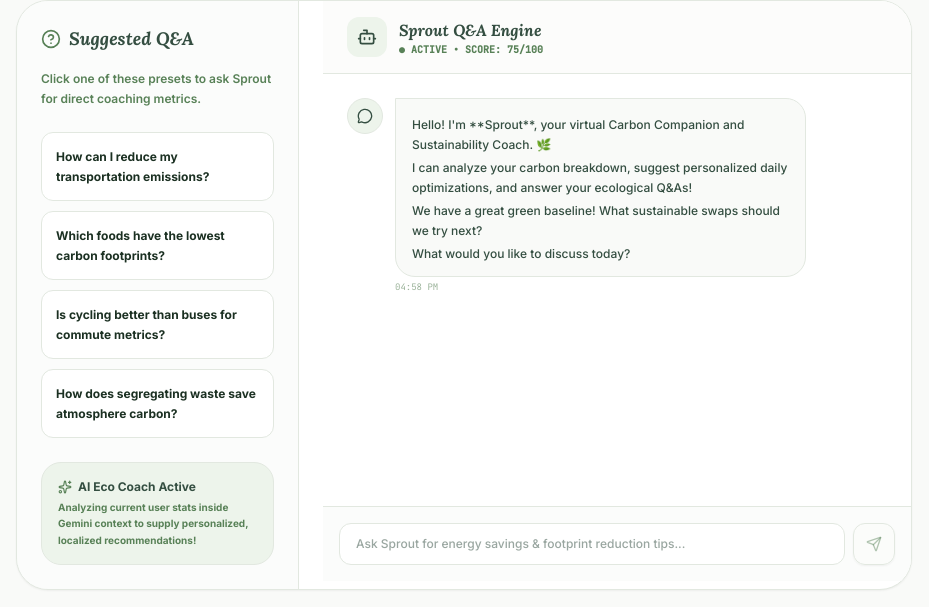
Test: Network & API Error handling fallback tests › shows error notice when chatbot API post fails
In the field with placeholder "Ask Sprout for energy savings & footprint reduction tips...": (592, 544) x1=339 y1=523 x2=845 y2=565, type "How big is a tree?"
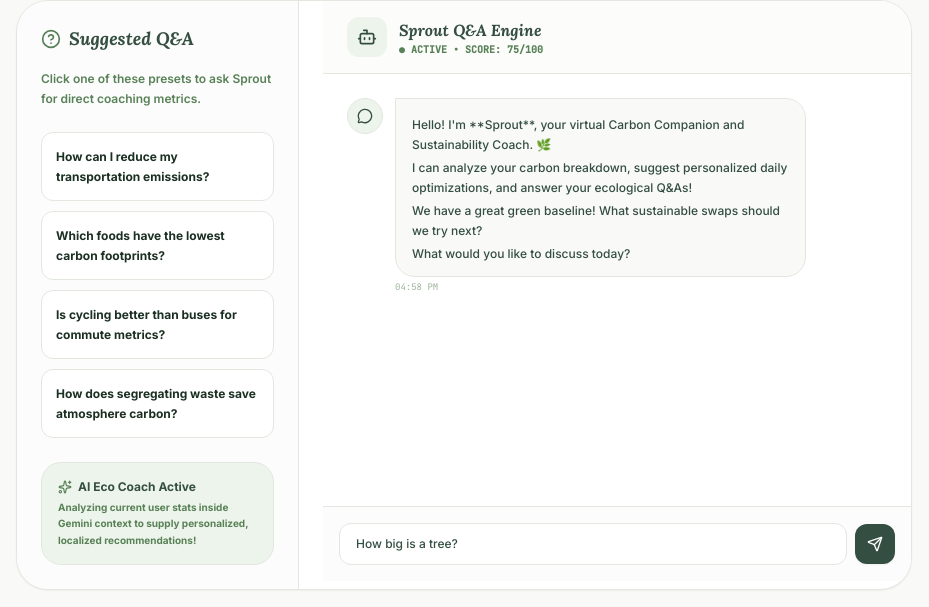
Click the submit button: (875, 544) x1=855 y1=524 x2=895 y2=564
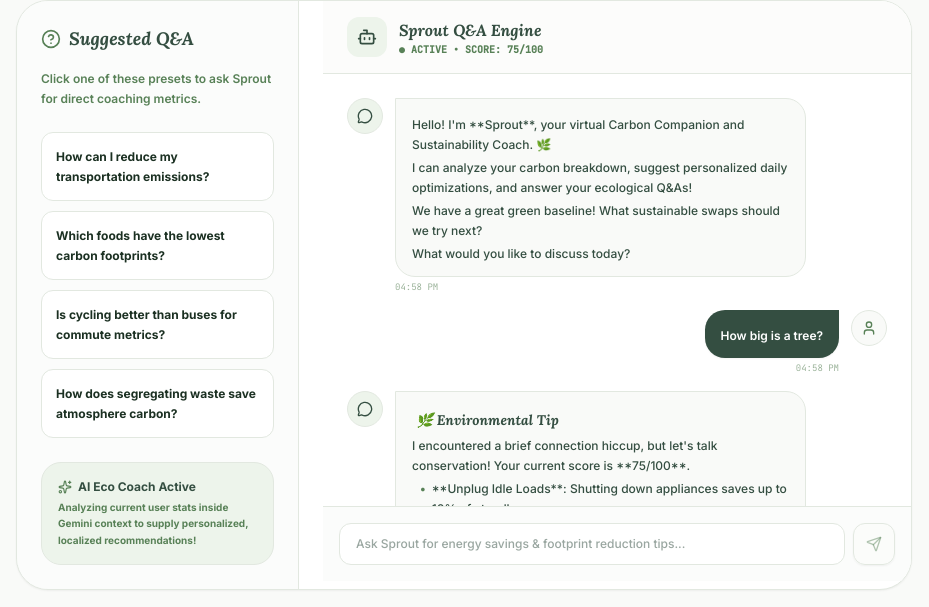
Result: the text "connection hiccup" is shown at x1=412 y1=438 x2=721 y2=472
